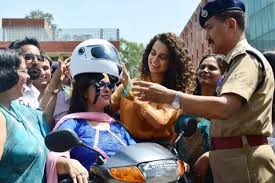helmet: (66, 38, 126, 96)
